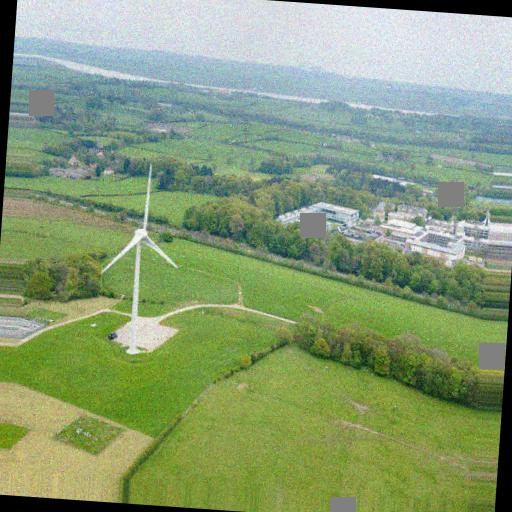wind turbine: (100, 165, 180, 327)
